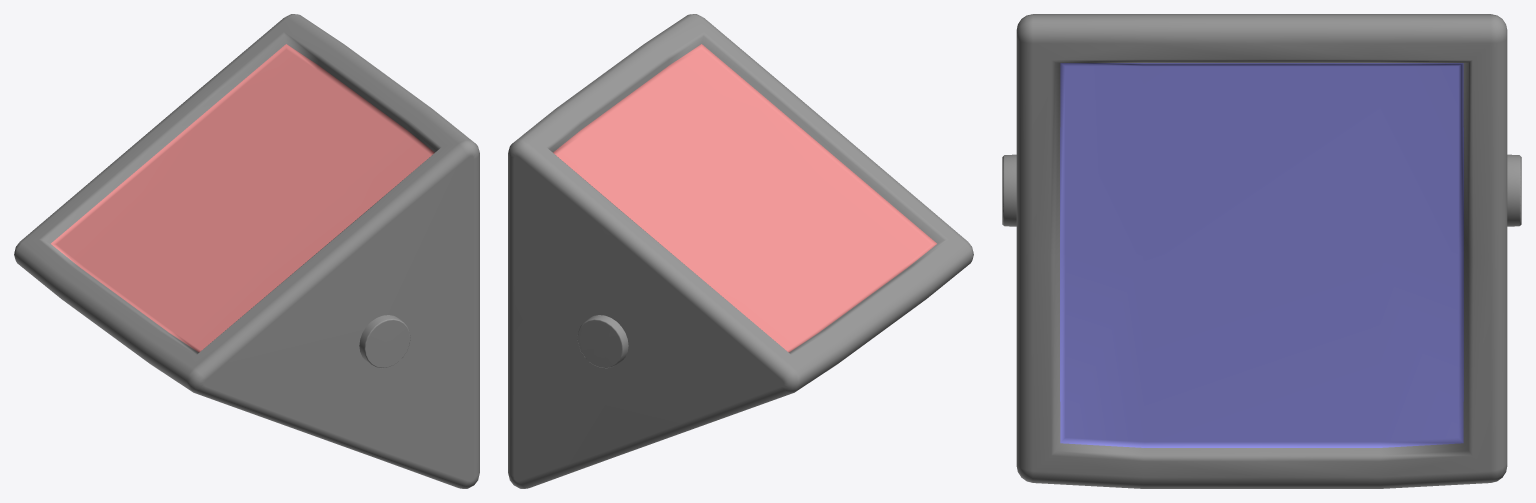
File: PlatformToyButton_01.gltf
3 renders of one model, left to right at view 1: azimuth 30°, elevation 25°; view 2: azimuth 150°, elevation 25°; view 3: azimuth 270°, elevation 25°, orthographic. The views are drawn at different scales.
Visible parts, largest first — view 1: PlatformToyButton_01; view 2: PlatformToyButton_01; view 3: PlatformToyButton_01.
Part boxes in pixels (box(x1,y1,x2,y2)): PlatformToyButton_01: box(14, 14, 479, 488); PlatformToyButton_01: box(508, 14, 973, 488); PlatformToyButton_01: box(1002, 14, 1521, 488).
Size of the model in its own units: 2.79 by 3.18 by 3.18.
